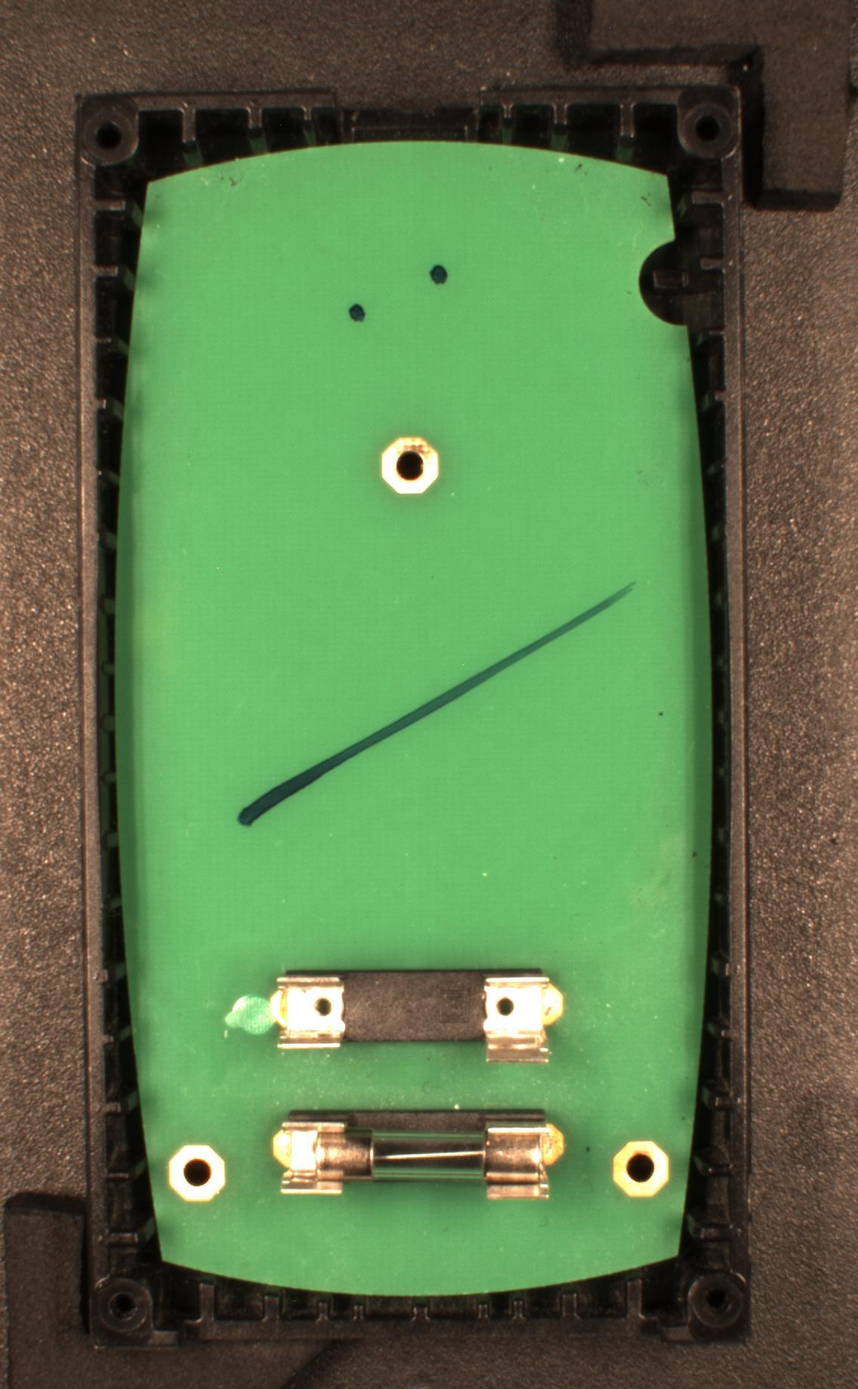Linijsko Ostecene: (235, 577, 641, 829)
Nepostojanje osiguraca: (268, 966, 565, 1067)
Tockasto Ostecenje: (343, 300, 370, 325), (426, 261, 452, 286)
